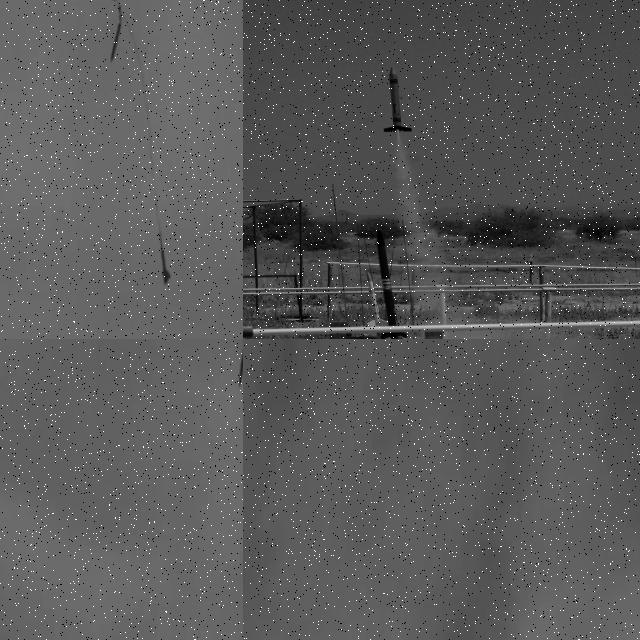Rocket: (376, 229, 408, 339), (383, 66, 413, 132), (366, 271, 388, 327), (159, 249, 171, 284)
